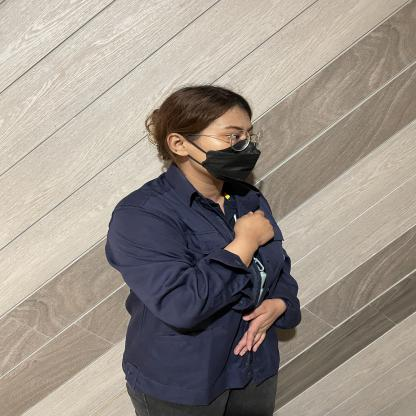Sadness: (205, 204, 304, 260)
